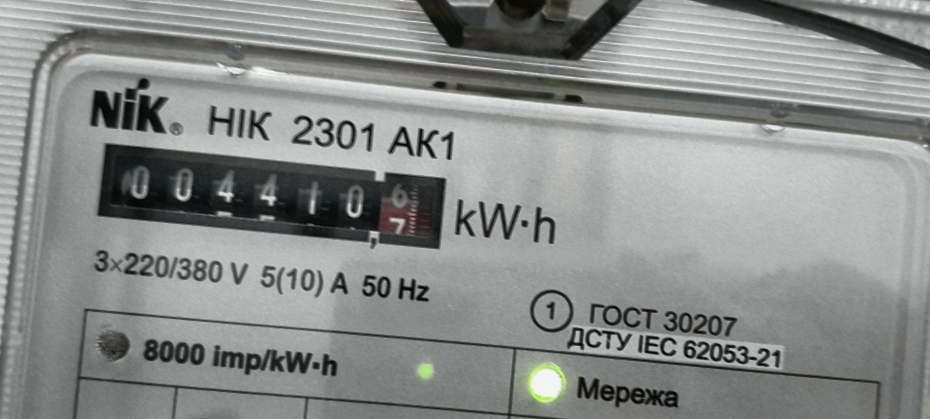0: (126, 160, 151, 200), (342, 181, 365, 219), (172, 163, 193, 202)
1: (303, 177, 320, 215)
4: (213, 163, 238, 203), (255, 169, 280, 209)
6: (390, 181, 409, 208)
7: (385, 213, 405, 234)
screen: (84, 128, 459, 261)
